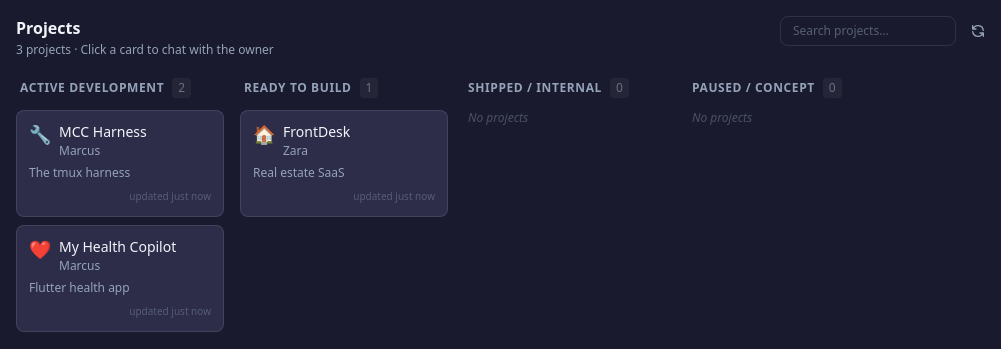
ProjectsView › shows a clear button when filter has text and clicking it resets the filter
Type "Health" into the field with placeholder "Search projects..." at (868, 31), box x1=780 y1=16 x2=956 y2=46
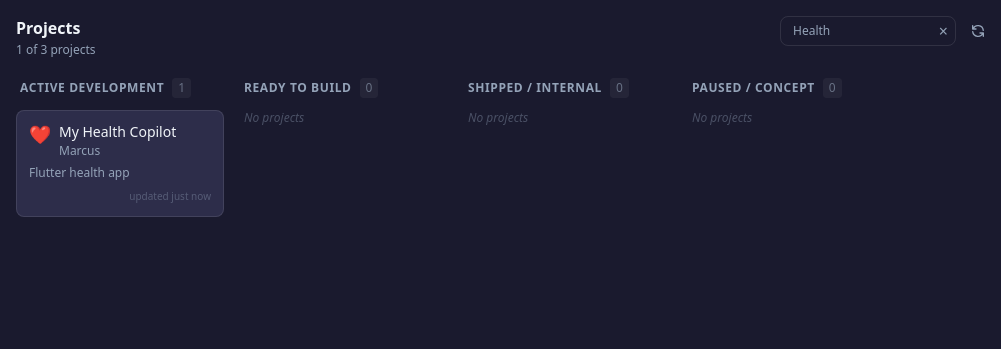
expect the button named "clear search" is shown: met
Click the button named "clear search" at (943, 31), box x1=939 y1=19 x2=948 y2=43
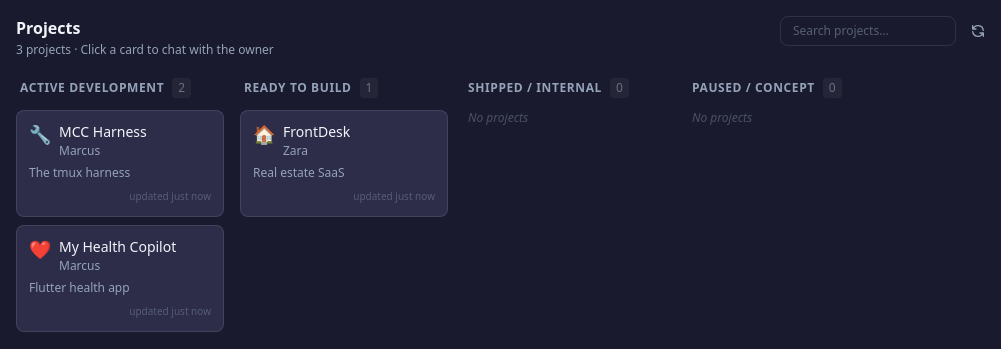
expect the field with placeholder "Search projects..." is empty: met, box x1=780 y1=16 x2=956 y2=46
expect the text "MCC Harness" is shown: met, box x1=59 y1=122 x2=147 y2=141
